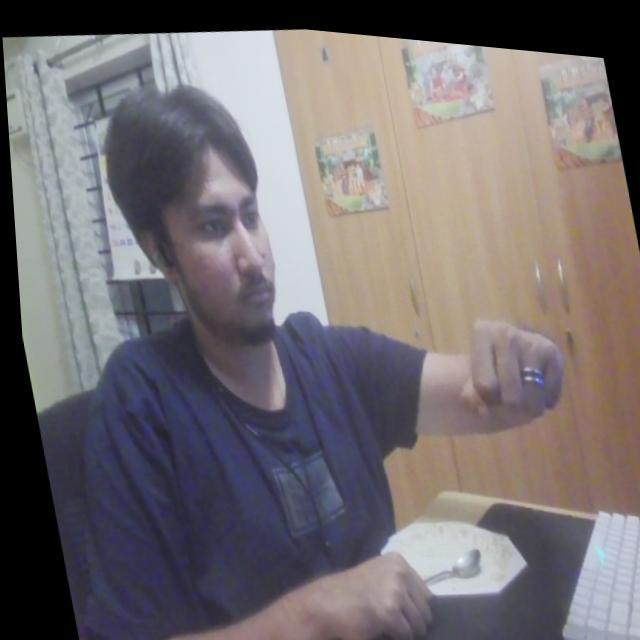yes: (438, 288, 574, 428)
